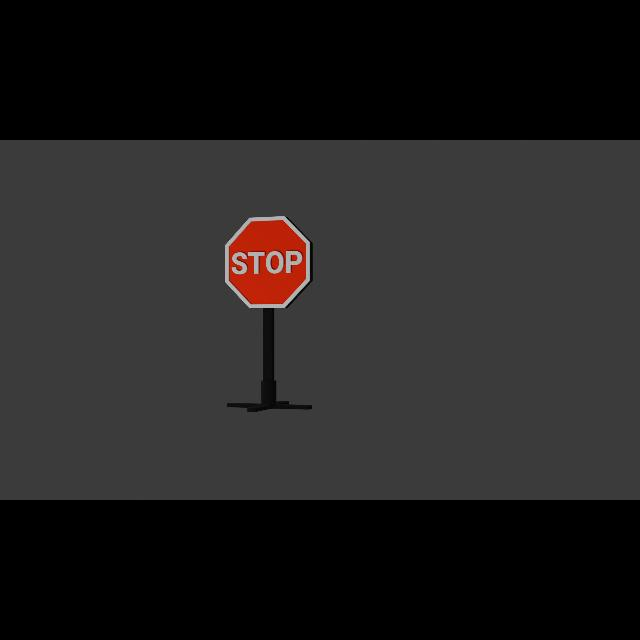sign_stop: (226, 216, 313, 310)
